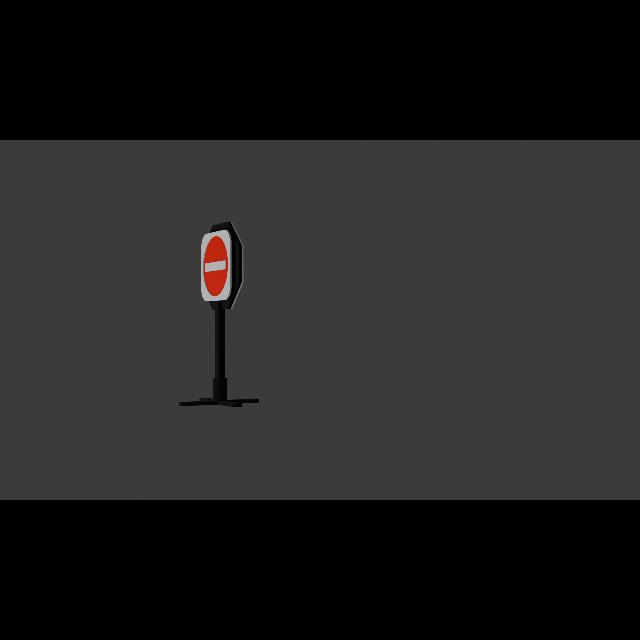sign_noentry: (204, 235, 231, 299)
